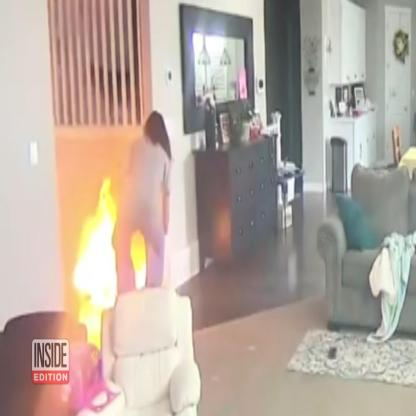fire: (74, 178, 148, 344)
